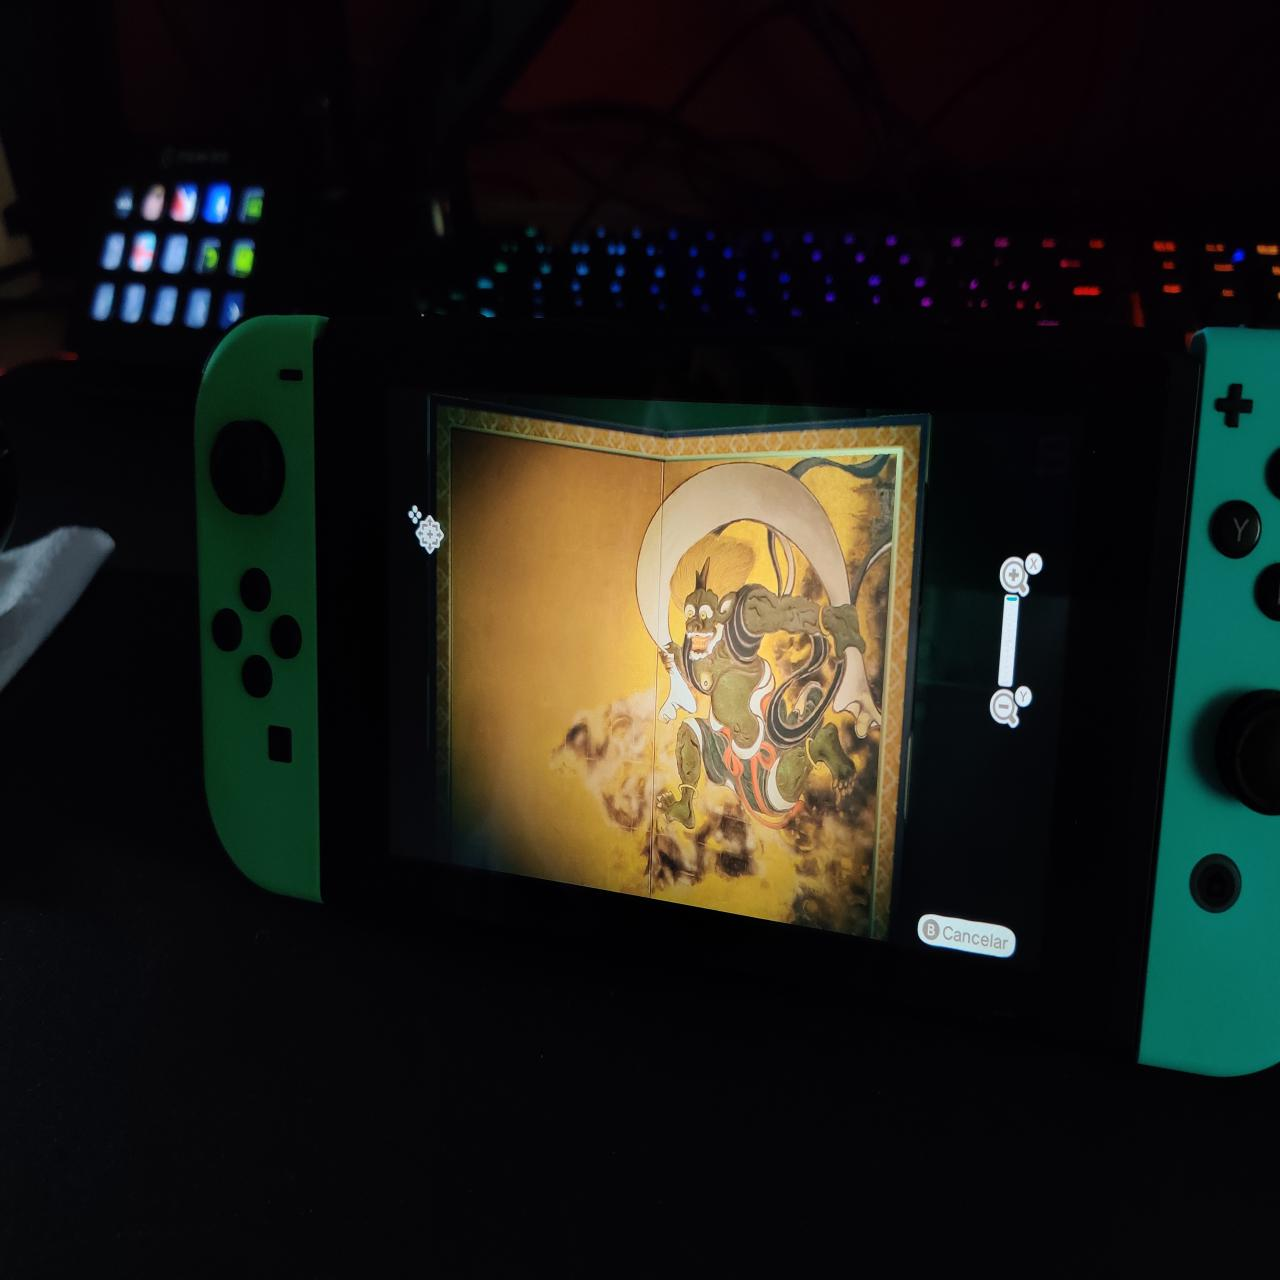Fuujin: (433, 395, 932, 931)
